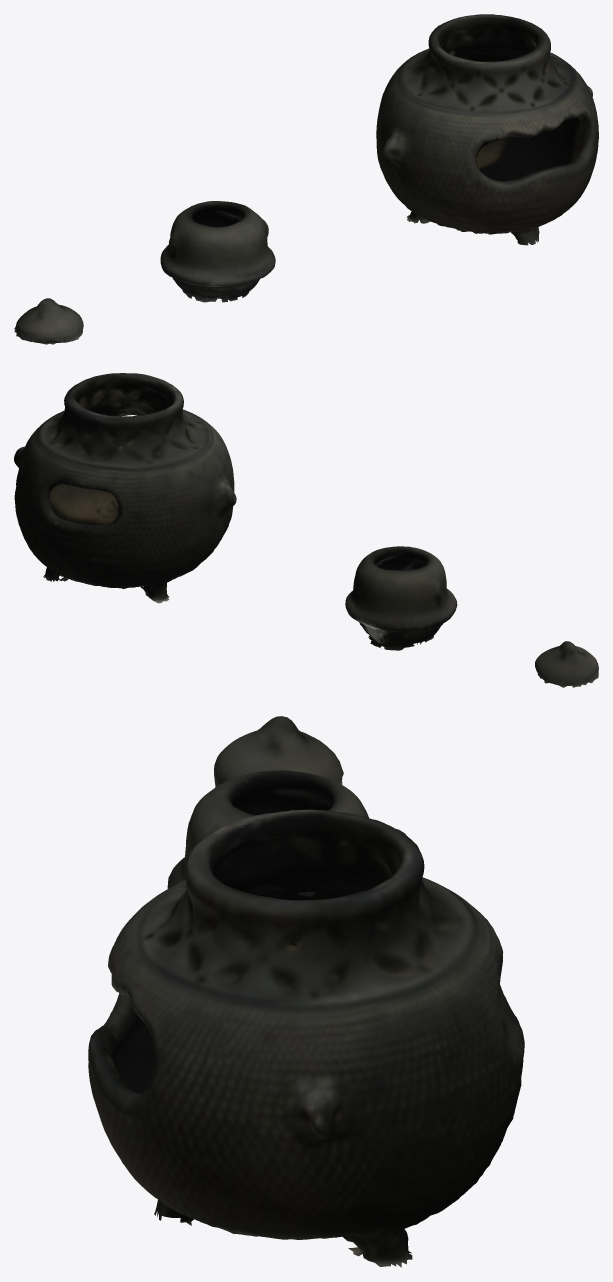
File: Model2_Parts.glb
3 renders of one model, top to bottom at view 1: azimuth 30°, elevation 25°; view 2: azimuth 150°, elevation 25°; view 3: azimuth 270°, elevation 25°, orthographic. The views are drawn at different scales.
Visible parts, largest first — view 1: Mesh; view 2: Mesh; view 3: Mesh.
Boxes of the visible parts, x1,y1,x2,y2 form: Mesh: (14, 14, 598, 344); Mesh: (14, 373, 598, 687); Mesh: (88, 716, 524, 1267).
Bounding box in the file's own units: 0.5527 × 0.1651 × 0.183.
1 material, 1 textured.
